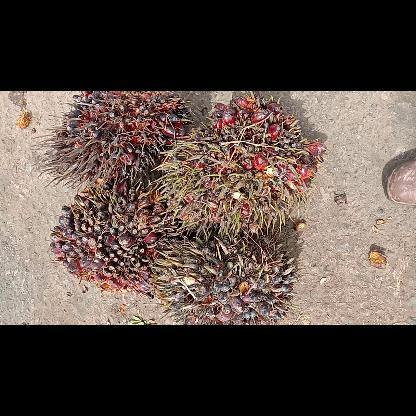TBS abnormal: (157, 92, 326, 236), (150, 224, 300, 324), (37, 92, 192, 186), (41, 182, 159, 302)
